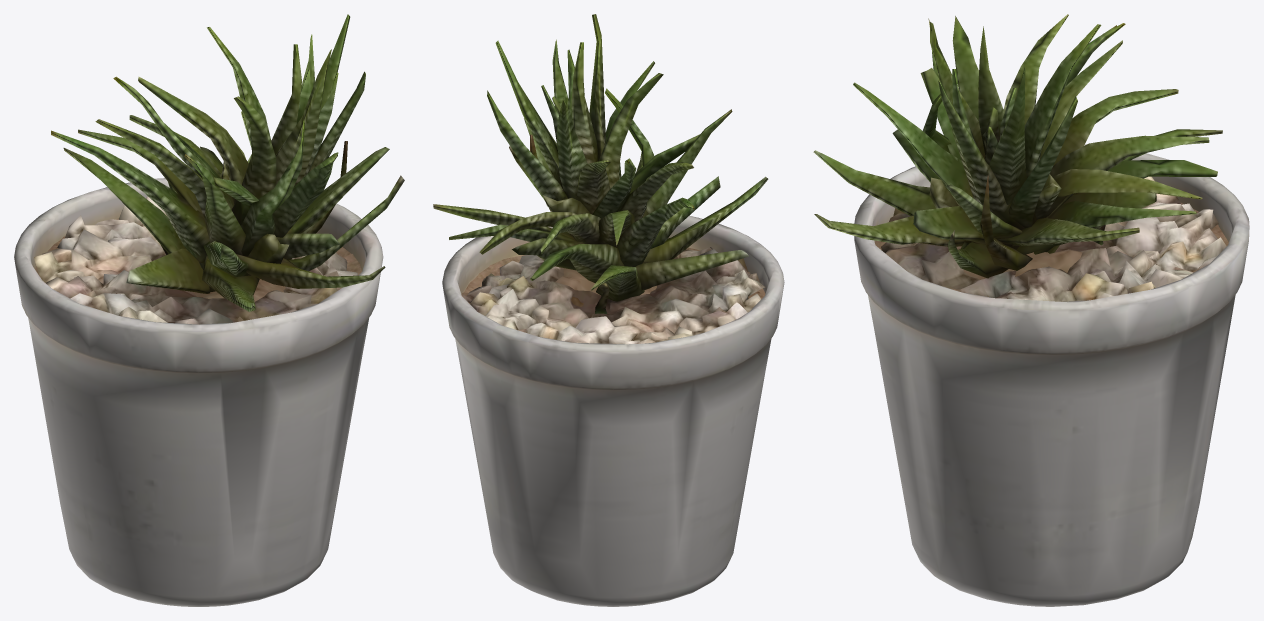
Rendered from potted_plant_04.glb.
3 views of the same model, side by side, from view 1: azimuth 30°, elevation 25°; view 2: azimuth 150°, elevation 25°; view 3: azimuth 270°, elevation 25° (orthographic). The views are drawn at different scales.
Visible parts, largest first — view 1: potted_plant_04_pot, potted_plant_04_plant, potted_plant_04_ground, potted_plant_04_dirt; view 2: potted_plant_04_pot, potted_plant_04_plant, potted_plant_04_ground, potted_plant_04_dirt; view 3: potted_plant_04_pot, potted_plant_04_plant, potted_plant_04_ground, potted_plant_04_dirt.
Part boxes in pixels (bbox=[...]): potted_plant_04_pot: bbox=[14, 178, 383, 606]; potted_plant_04_plant: bbox=[51, 14, 404, 311]; potted_plant_04_ground: bbox=[34, 196, 357, 324]; potted_plant_04_dirt: bbox=[35, 218, 361, 304]; potted_plant_04_pot: bbox=[442, 215, 784, 606]; potted_plant_04_plant: bbox=[433, 14, 768, 313]; potted_plant_04_ground: bbox=[462, 247, 765, 344]; potted_plant_04_dirt: bbox=[461, 247, 765, 306]; potted_plant_04_pot: bbox=[854, 144, 1249, 606]; potted_plant_04_plant: bbox=[813, 14, 1222, 278]; potted_plant_04_ground: bbox=[881, 176, 1226, 301]; potted_plant_04_dirt: bbox=[874, 202, 1228, 296].
Bounding box in the file's own units: 0.1676 × 0.2671 × 0.184.
1 material, 1 textured.
